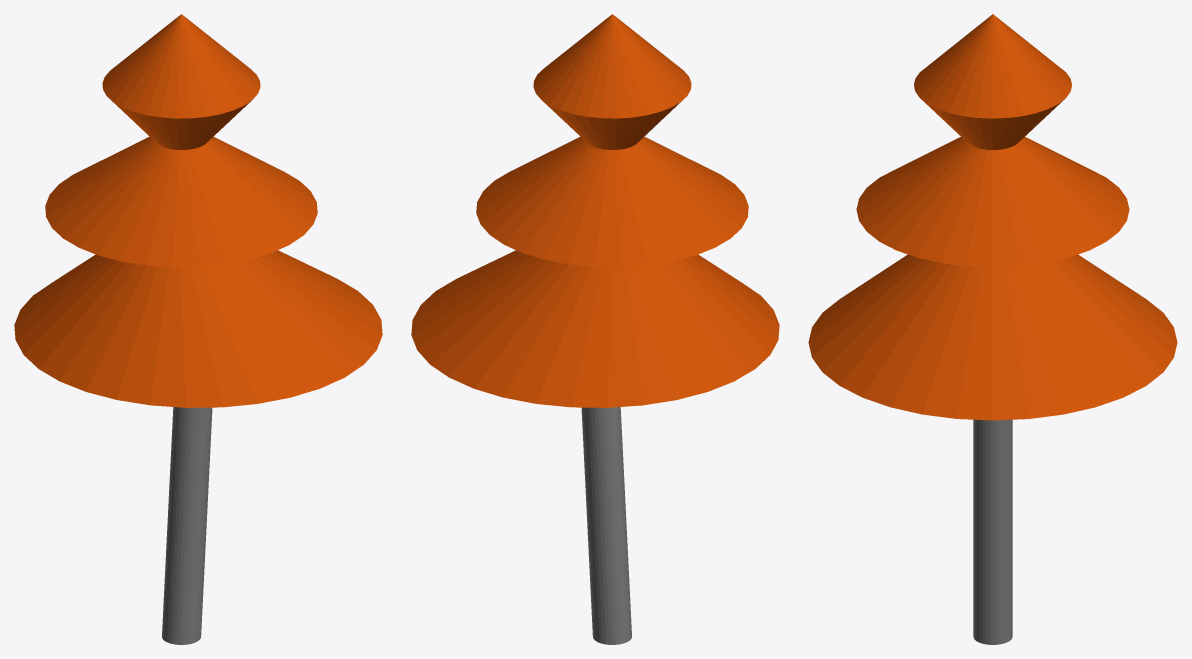
Rendered from Red_tree.fbx.
3 views of the same model, side by side, from view 1: azimuth 30°, elevation 25°; view 2: azimuth 150°, elevation 25°; view 3: azimuth 270°, elevation 25° (orthographic).
Parts seen in each view (by area): view 1: red; view 2: red; view 3: red.
Boxes of the visible parts, x1,y1,x2,y2 form: red: [14, 14, 382, 644]; red: [411, 14, 779, 644]; red: [808, 14, 1177, 644].
Size of the model in its own units: 188 by 350 by 188.
